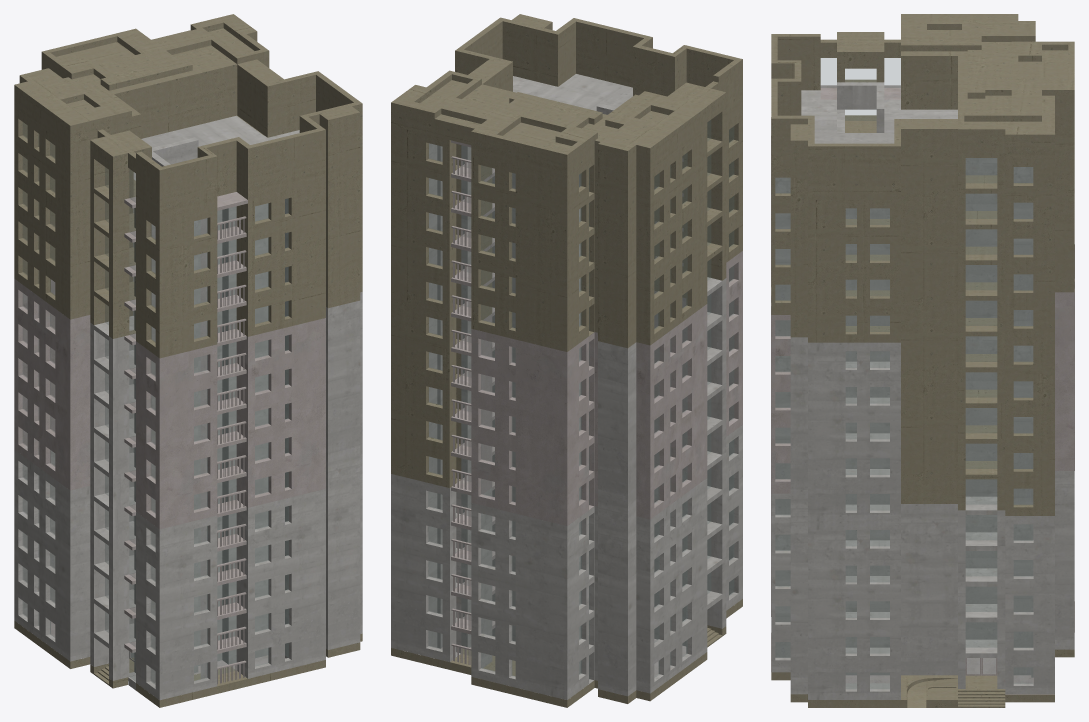
The model's file is korean_apartment.glb.
3 views of the same model, side by side, from view 1: azimuth 30°, elevation 25°; view 2: azimuth 150°, elevation 25°; view 3: azimuth 270°, elevation 25° (orthographic). The views are drawn at different scales.
Visible parts, largest first — view 1: Korean_Apartment_0; view 2: Korean_Apartment_0; view 3: Korean_Apartment_0.
Part boxes in pixels (x1,y1,x2,y2): Korean_Apartment_0: (14,14,362,707); Korean_Apartment_0: (391,14,742,707); Korean_Apartment_0: (771,14,1074,707).
Size of the model in its own units: 4.55 by 9.53 by 4.62.
Materials: 4 (3 with a texture image).
